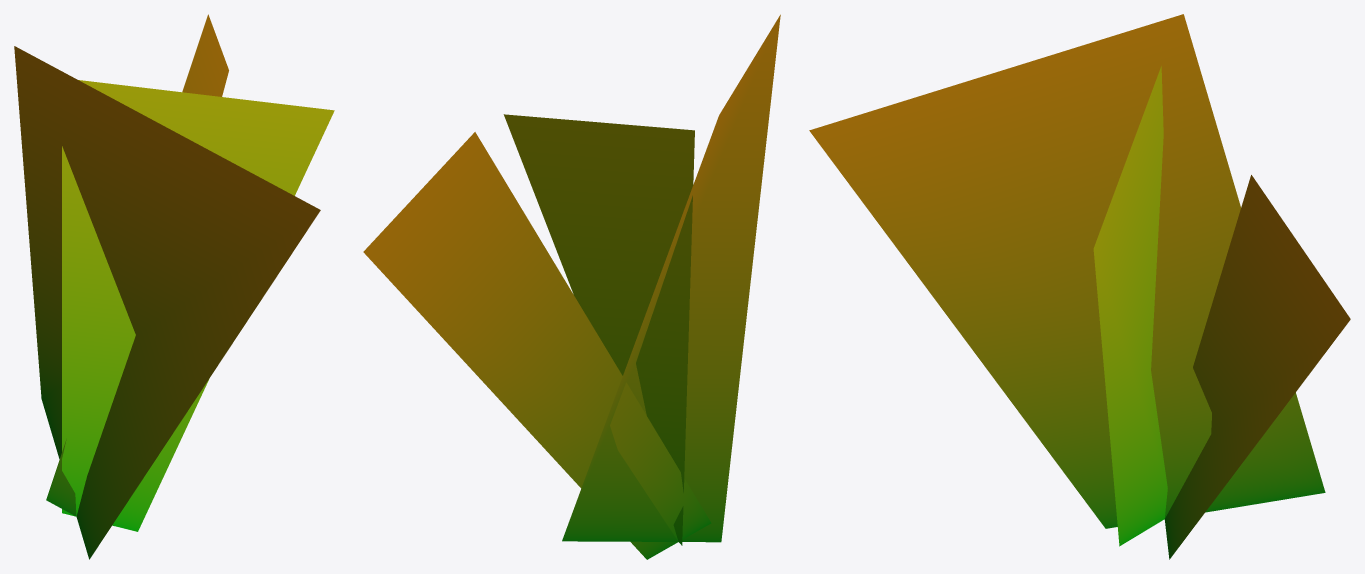
The model's file is Ocean Seaweed_LOD2_Var3_sdDkn.fbx.
The picture shows the model from 3 angles, left to right: view 1: azimuth 30°, elevation 25°; view 2: azimuth 150°, elevation 25°; view 3: azimuth 270°, elevation 25°; orthographic projection. The views are drawn at different scales.
Parts seen in each view (by area): view 1: _8b43_Var3_LOD2; view 2: _8b43_Var3_LOD2; view 3: _8b43_Var3_LOD2.
Part boxes in pixels (bbox=[...]): _8b43_Var3_LOD2: bbox=[14, 14, 334, 559]; _8b43_Var3_LOD2: bbox=[363, 14, 780, 559]; _8b43_Var3_LOD2: bbox=[809, 14, 1350, 559].
Bounding box in the file's own units: 20.22 × 32.54 × 31.66.
